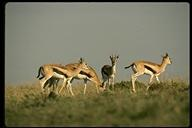antelope: (35, 56, 90, 99), (124, 51, 174, 95), (64, 61, 103, 97), (99, 54, 121, 90)
grass: (6, 100, 188, 125)
sky: (8, 4, 188, 50)
